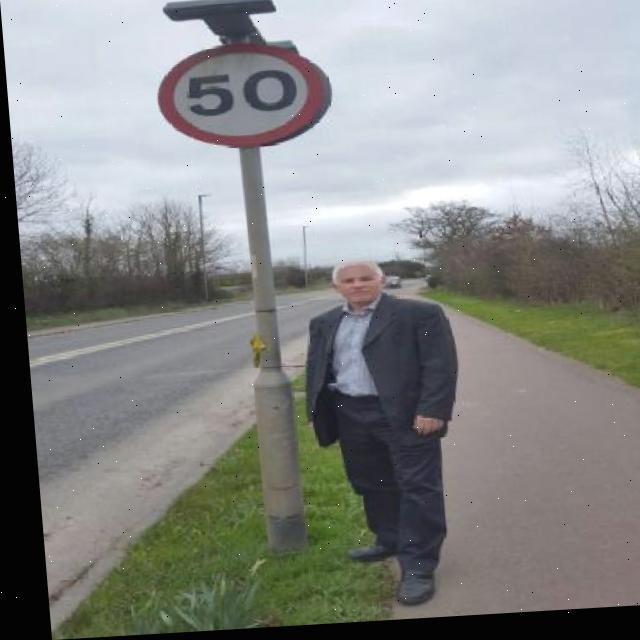Speed limit 50: (149, 38, 336, 157)
